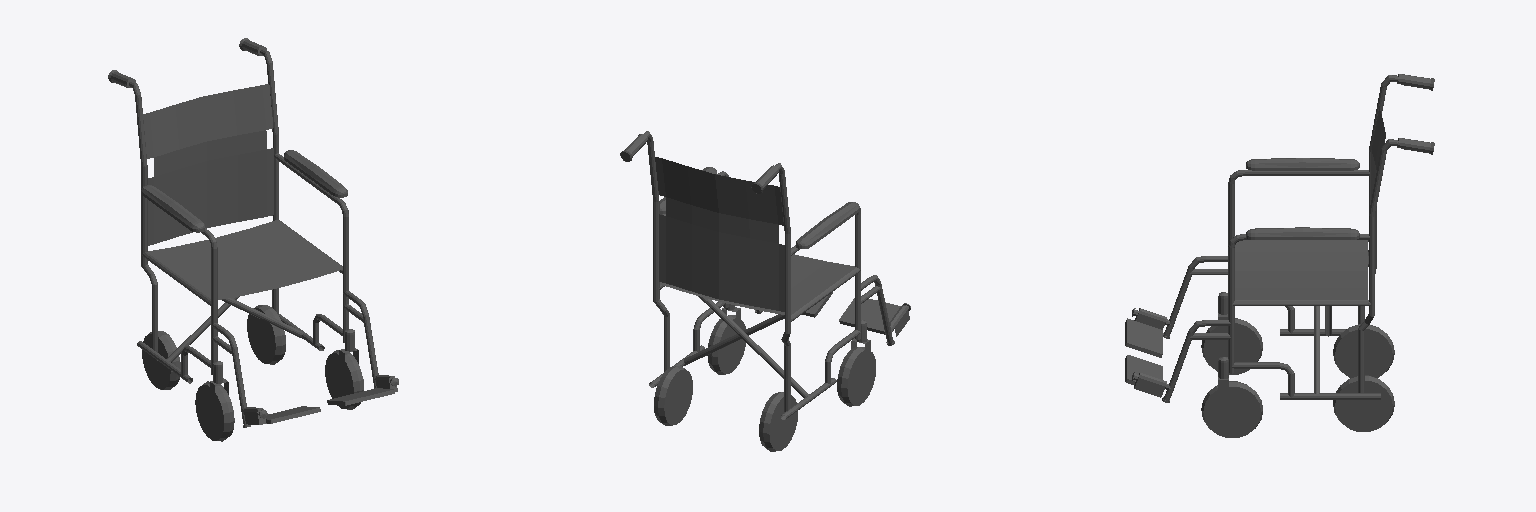
The model's file is wheel-chair.obj.
3 views of the same model, side by side, from view 1: azimuth 30°, elevation 25°; view 2: azimuth 150°, elevation 25°; view 3: azimuth 270°, elevation 25° (orthographic).
Parts seen in each view (by area): view 1: Object001; view 2: Object001; view 3: Object001.
Boxes of the visible parts, x1,y1,x2,y2 form: Object001: [108, 38, 398, 441]; Object001: [620, 131, 910, 451]; Object001: [1125, 74, 1434, 437].
Size of the model in its own units: 0.6629 by 1.22 by 1.14.